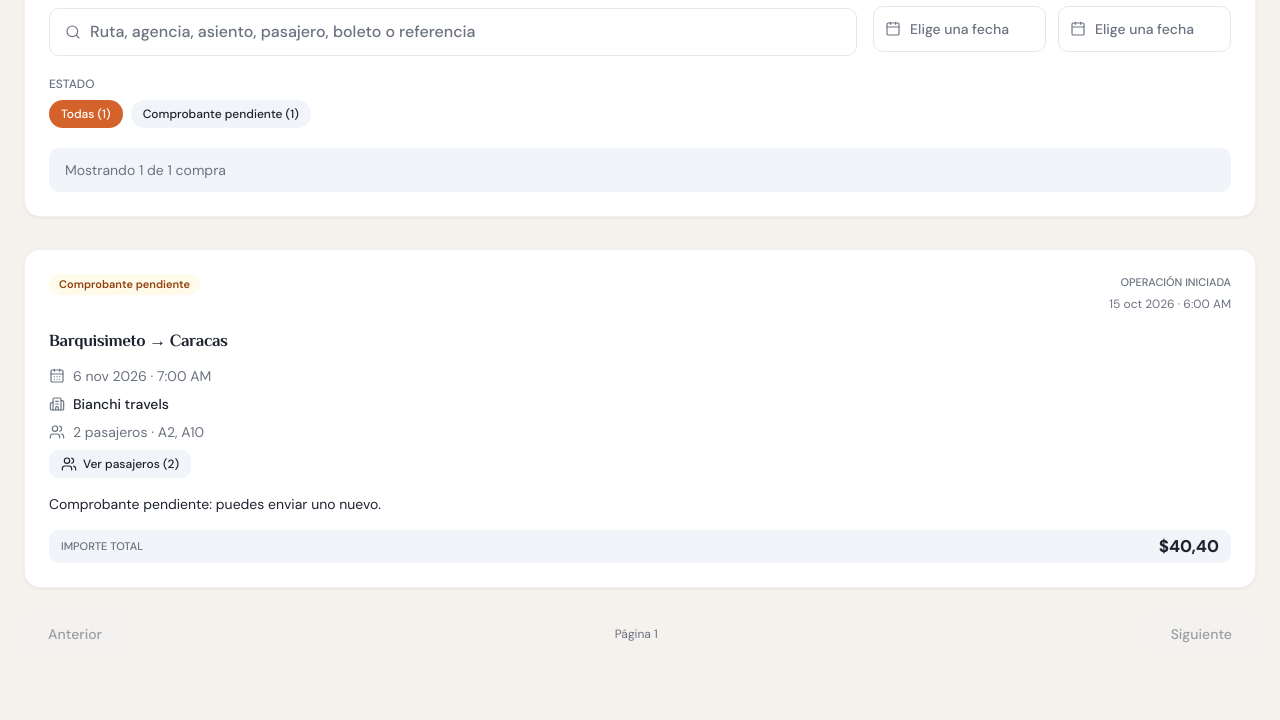
Scenario: MisComprasPage (RT-02) › abre los datos de pasajeros en un modal accesible y lo cierra con Escape
Click the button "Ver pasajeros (2)" at (120, 464), box [49, 450, 191, 478]
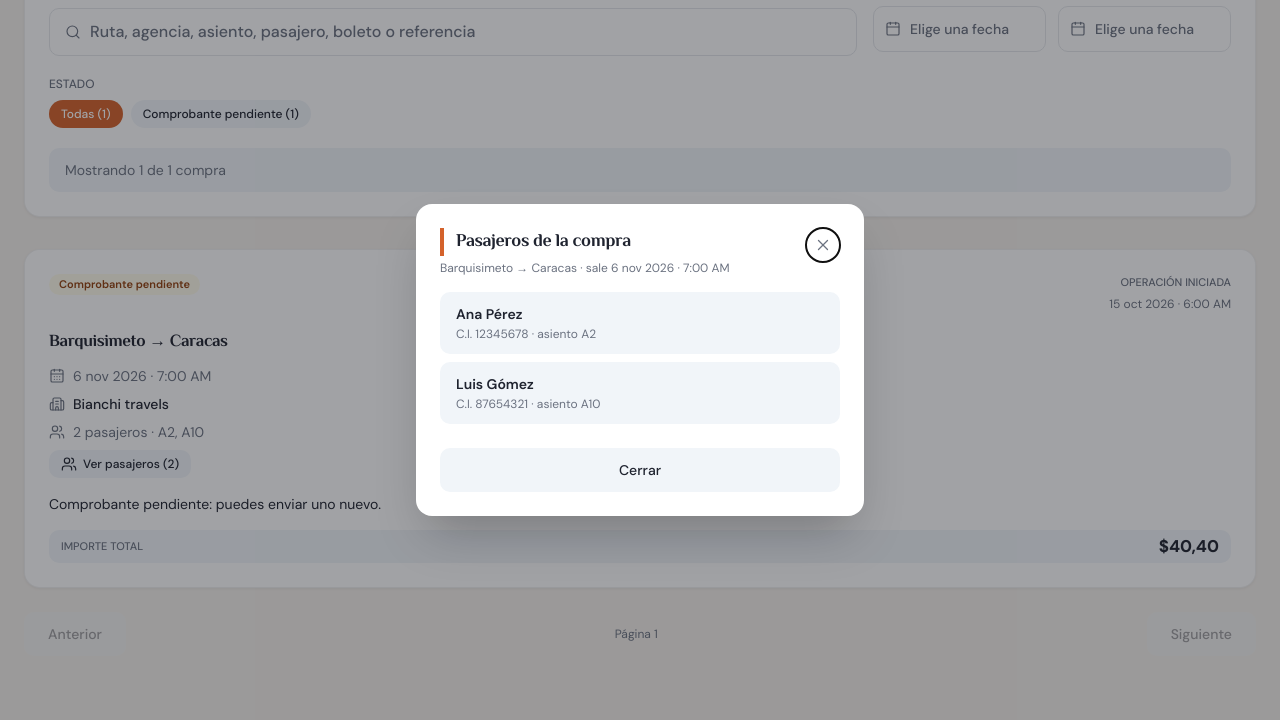
Expected: the text "Ana Pérez" is shown, [456, 305, 522, 323]
Expected: the text "C.I. 12345678 · asiento A2" is shown, [456, 326, 596, 342]
Expected: the text "Luis Gómez" is shown, [456, 375, 534, 393]
Press Escape
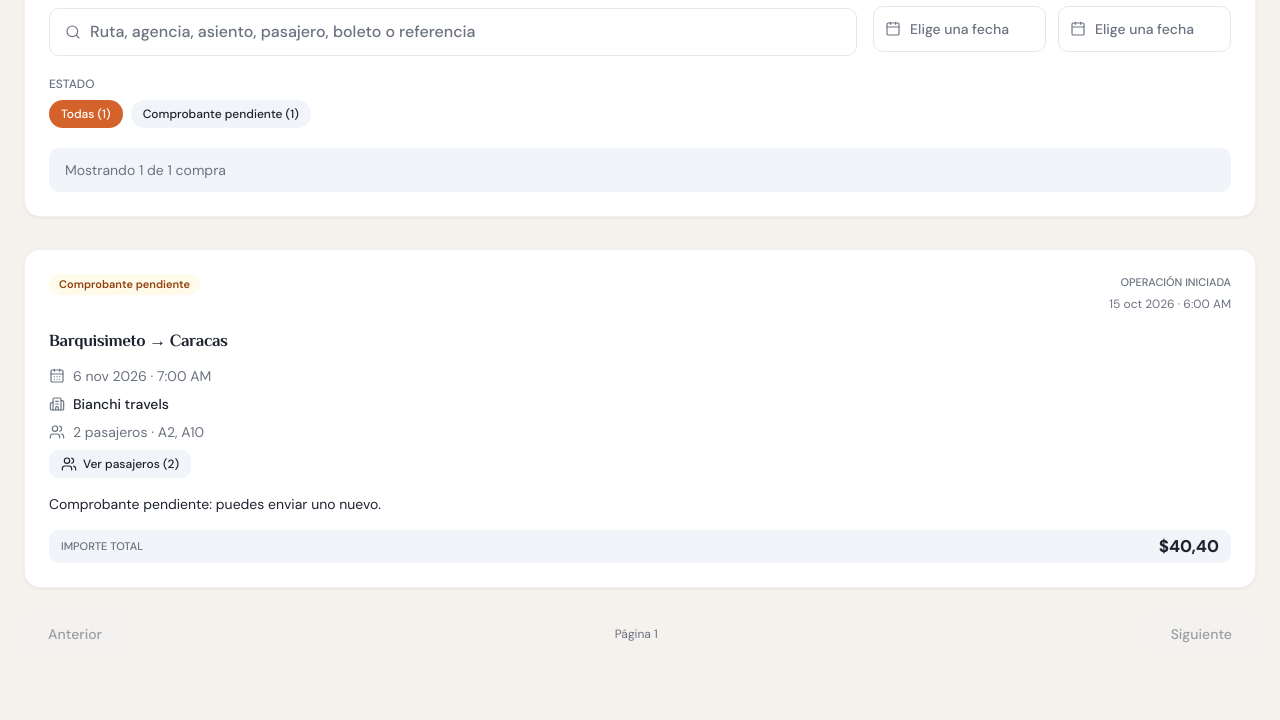
Expected: the heading "Barquisimeto → Caracas" is shown, [49, 329, 228, 355]
Expected: the dialog is gone
